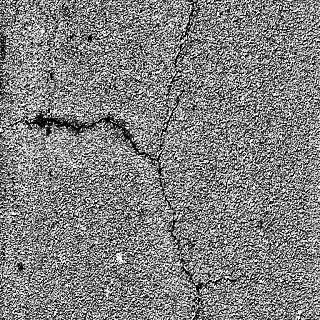crack: (14, 91, 158, 169), (154, 160, 202, 320), (154, 0, 199, 161)
